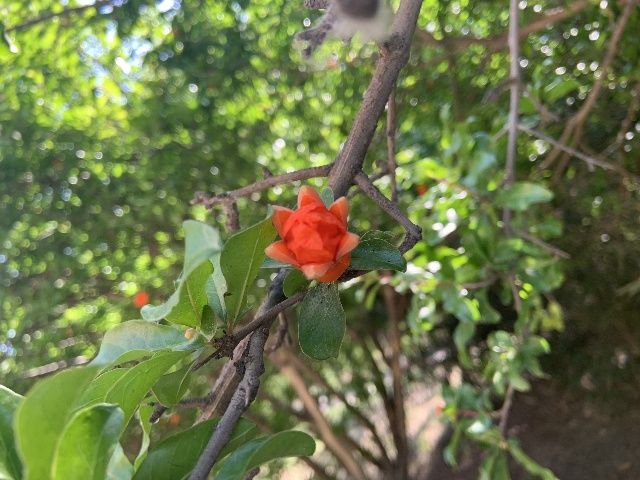flower: (264, 184, 360, 282)
